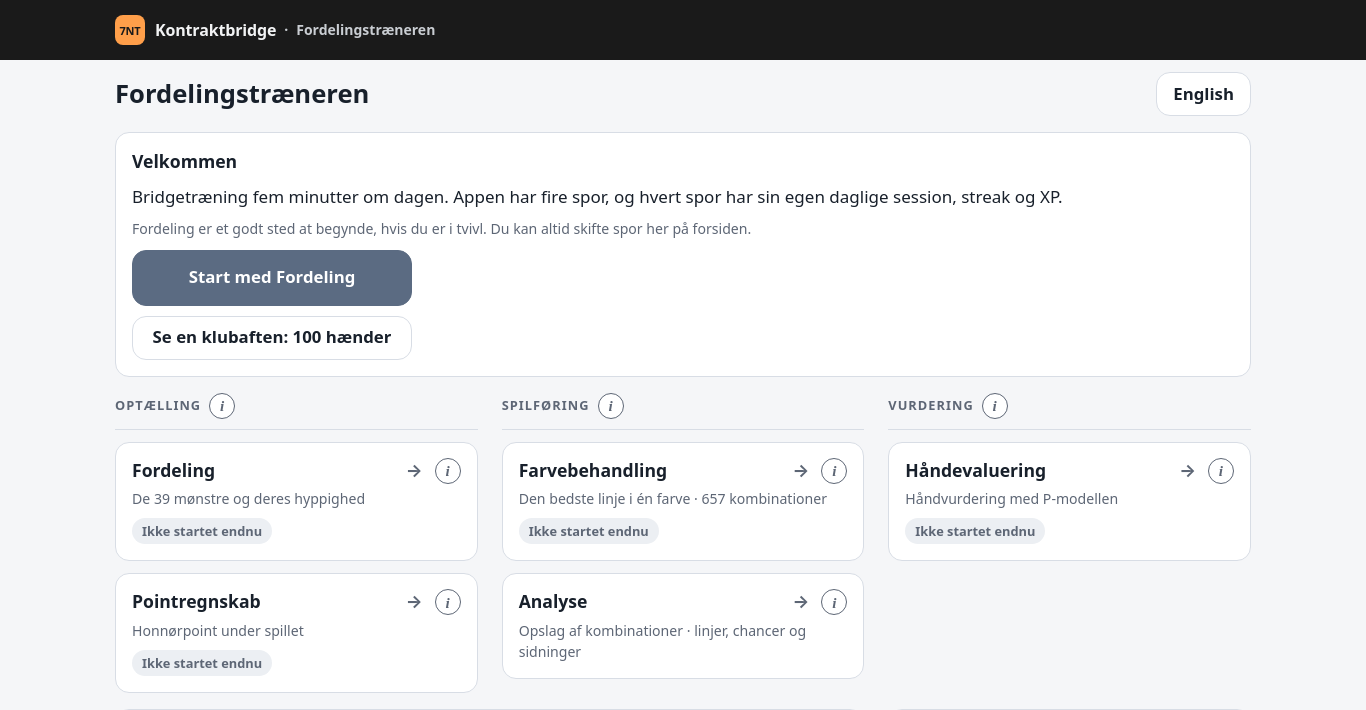
Test case: Forsidens grupper (SPEC-navigation.md og SPEC-forside-spor.md) › fordelingssporets elementer og menupunkter står på Fordeling-skærmen i samme rækkefølge som før, med samme navn og ⓘ
Click the button "Fordeling".
click(296, 501)  # box [115, 442, 478, 561]
(page scrolled)
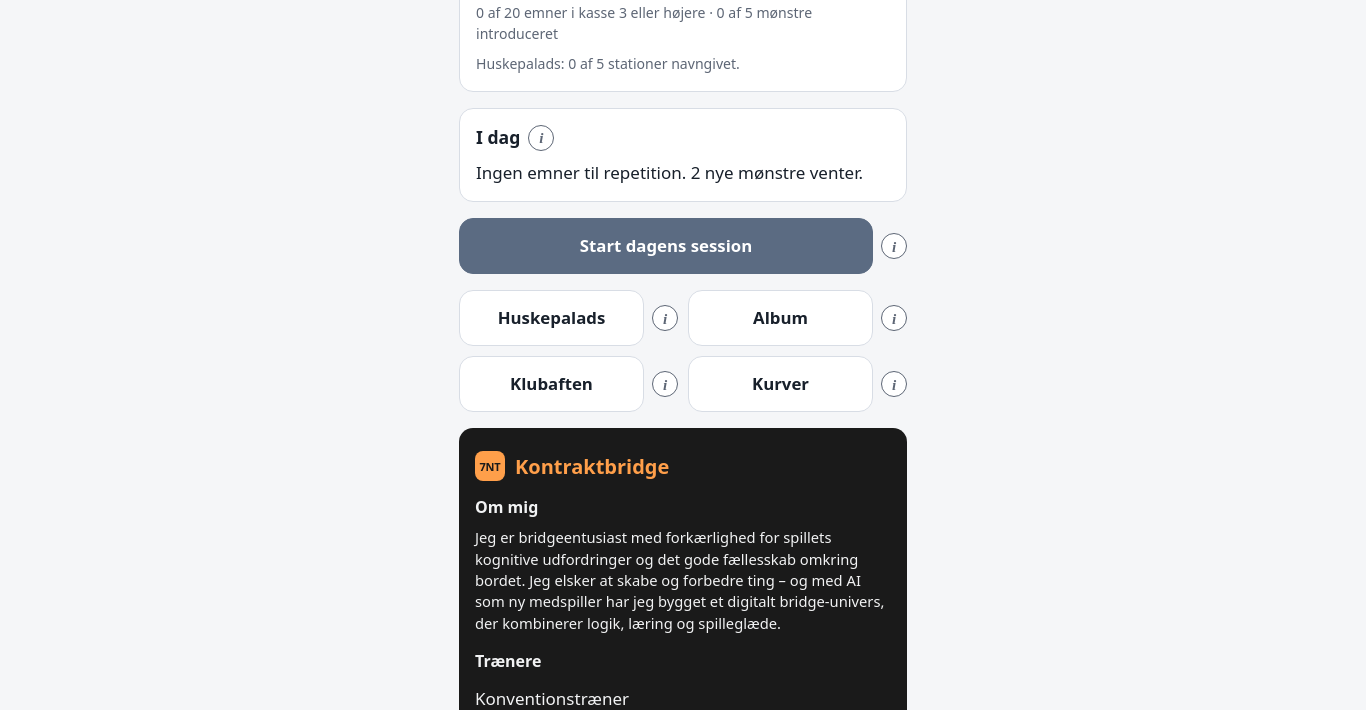
Now the button named "Hjælp: Huskepalads" is shown, box [652, 305, 678, 331]
Now the button named "Hjælp: Album" is shown, box [881, 305, 907, 331]
Now the button named "Hjælp: Klubaften" is shown, box [652, 371, 678, 397]
